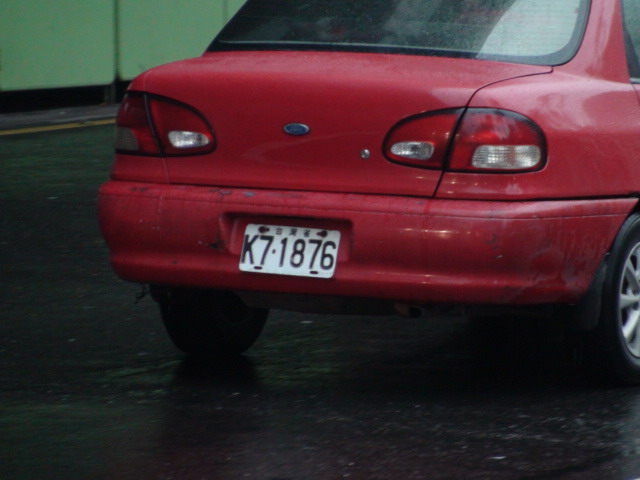plate: (234, 220, 344, 283)
